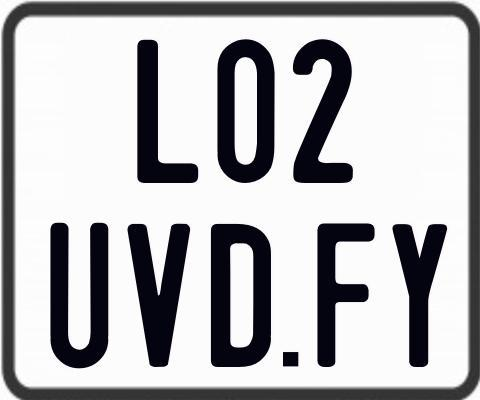0: (217, 38, 277, 184)
2: (290, 38, 350, 184)
D: (208, 221, 271, 369)
F: (317, 222, 376, 371)
L: (134, 37, 197, 183)
U: (48, 220, 112, 371)
V: (125, 224, 190, 369)
Y: (392, 224, 450, 373)
